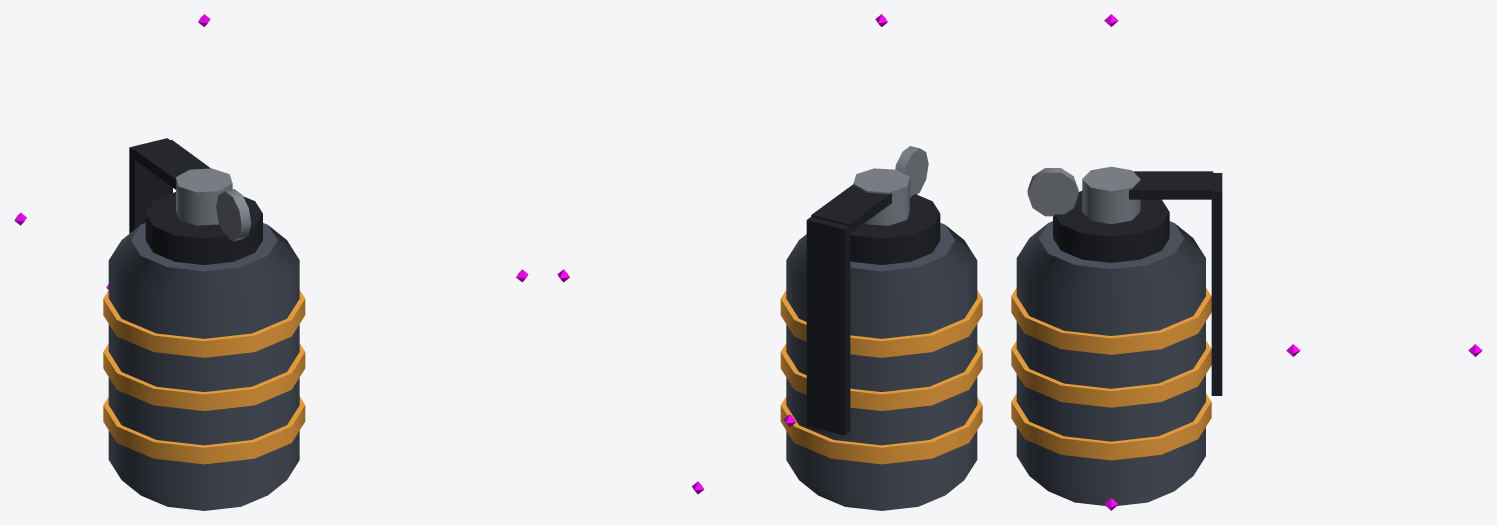
Rendered from Grenade.glb.
The picture shows the model from 3 angles, left to right: view 1: azimuth 30°, elevation 25°; view 2: azimuth 150°, elevation 25°; view 3: azimuth 270°, elevation 25°; orthographic projection.
Visible parts, largest first — view 1: Steel, Accent, Dark, Bare; view 2: Steel, Dark, Accent, Bare; view 3: Steel, Accent, Dark, Bare.
Part boxes in pixels (x1,y1,x2,y2): Steel: (108, 223, 299, 510); Accent: (103, 290, 305, 464); Dark: (129, 138, 262, 264); Bare: (176, 168, 251, 241); Steel: (786, 223, 977, 510); Dark: (806, 184, 940, 435); Accent: (780, 290, 982, 464); Bare: (853, 146, 928, 225); Steel: (1016, 221, 1205, 505); Accent: (1011, 288, 1211, 460); Dark: (1053, 171, 1222, 395); Bare: (1027, 166, 1140, 224).
Bounding box in the file's own units: 1.29 × 1.4 × 1.29.
